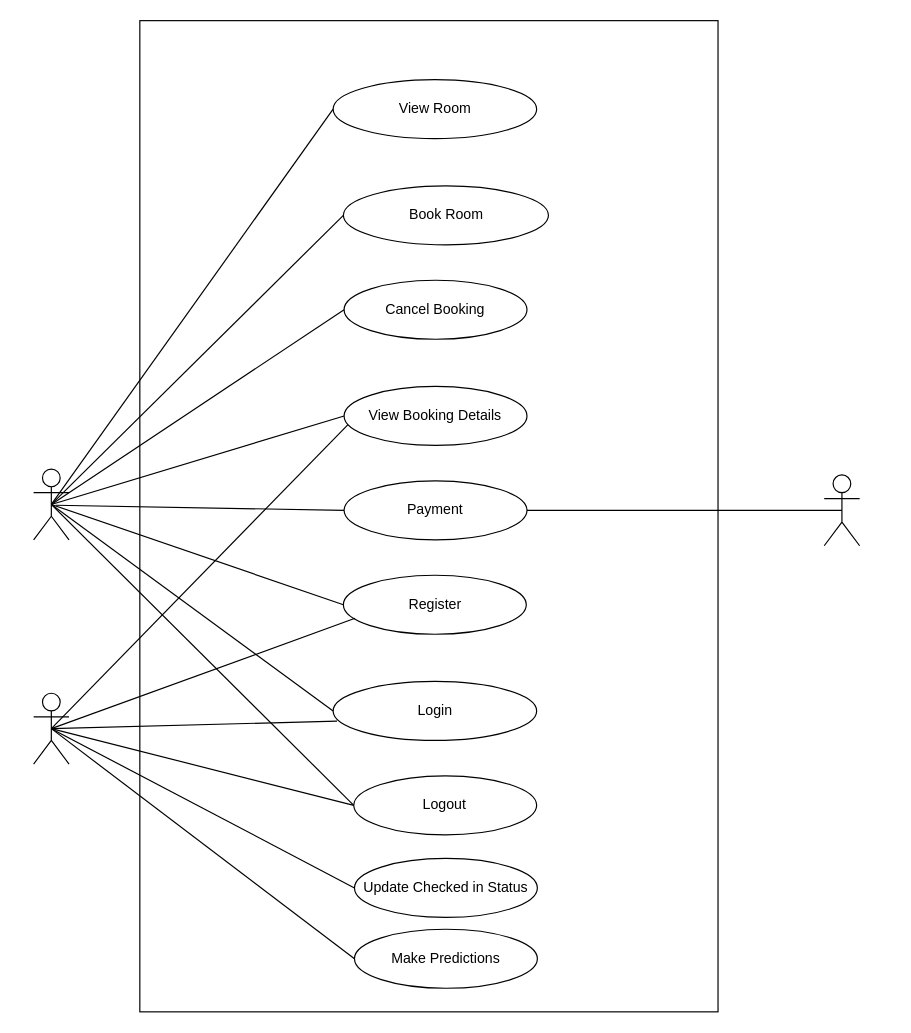
Some shapes in this 911 by 1033 pixel diagram are drawn without their labels. Here are the shapes that lost their labels. From the top down, the centre of each, then its label:
At point 50,504: "Customer".
At point 841,510: "Stripe Payment Gateway".
At point 50,728: "Employee".
